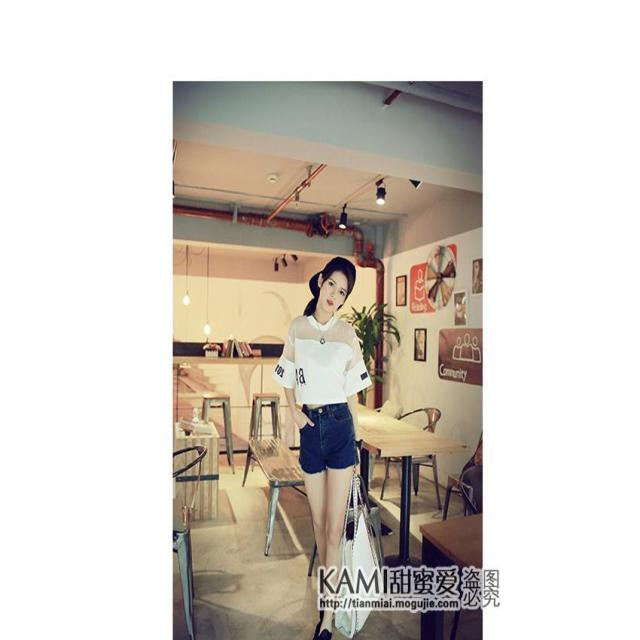short sleeve top: (273, 314, 373, 405)
shorts: (300, 402, 359, 471)
